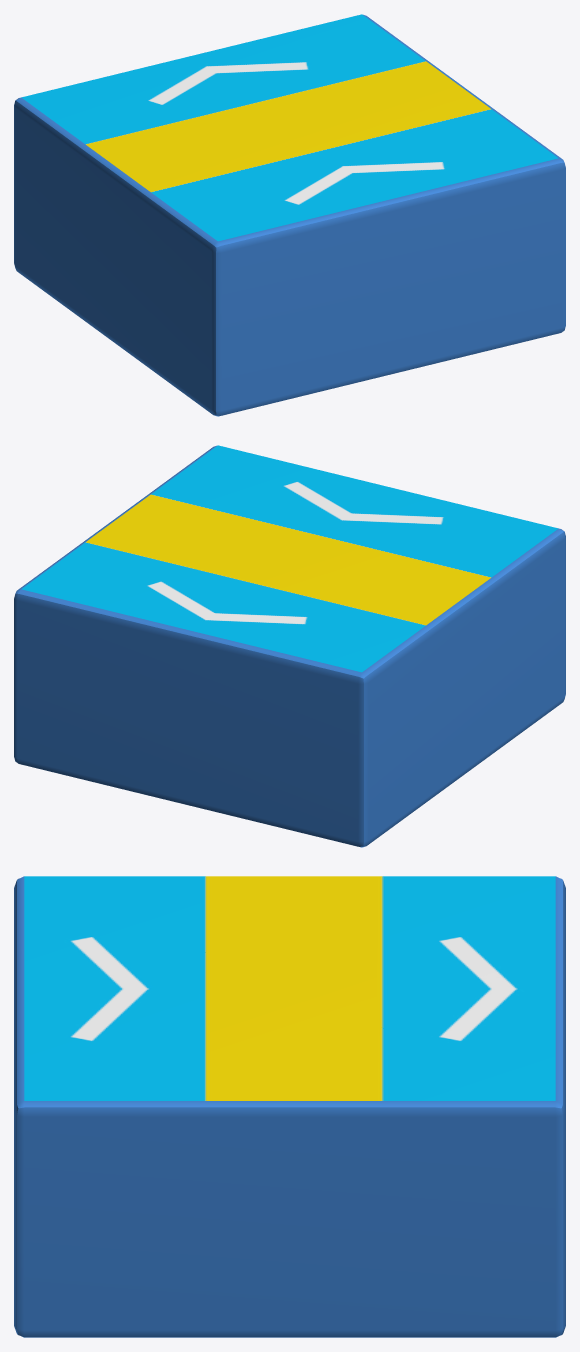
File: PLF0110065.fbx
3 views of the same model, one above another, from view 1: azimuth 30°, elevation 25°; view 2: azimuth 150°, elevation 25°; view 3: azimuth 270°, elevation 25° (orthographic). The views are drawn at different scales.
Visible parts, largest first — view 1: smPLF0110065; view 2: smPLF0110065; view 3: smPLF0110065.
Boxes of the visible parts, <box> form: smPLF0110065: <box>14,14,565,416</box>; smPLF0110065: <box>14,445,565,847</box>; smPLF0110065: <box>14,876,565,1337</box>.
Bounding box in the file's own units: 233 × 110 × 233.
Materials: 2 (2 with a texture image).
